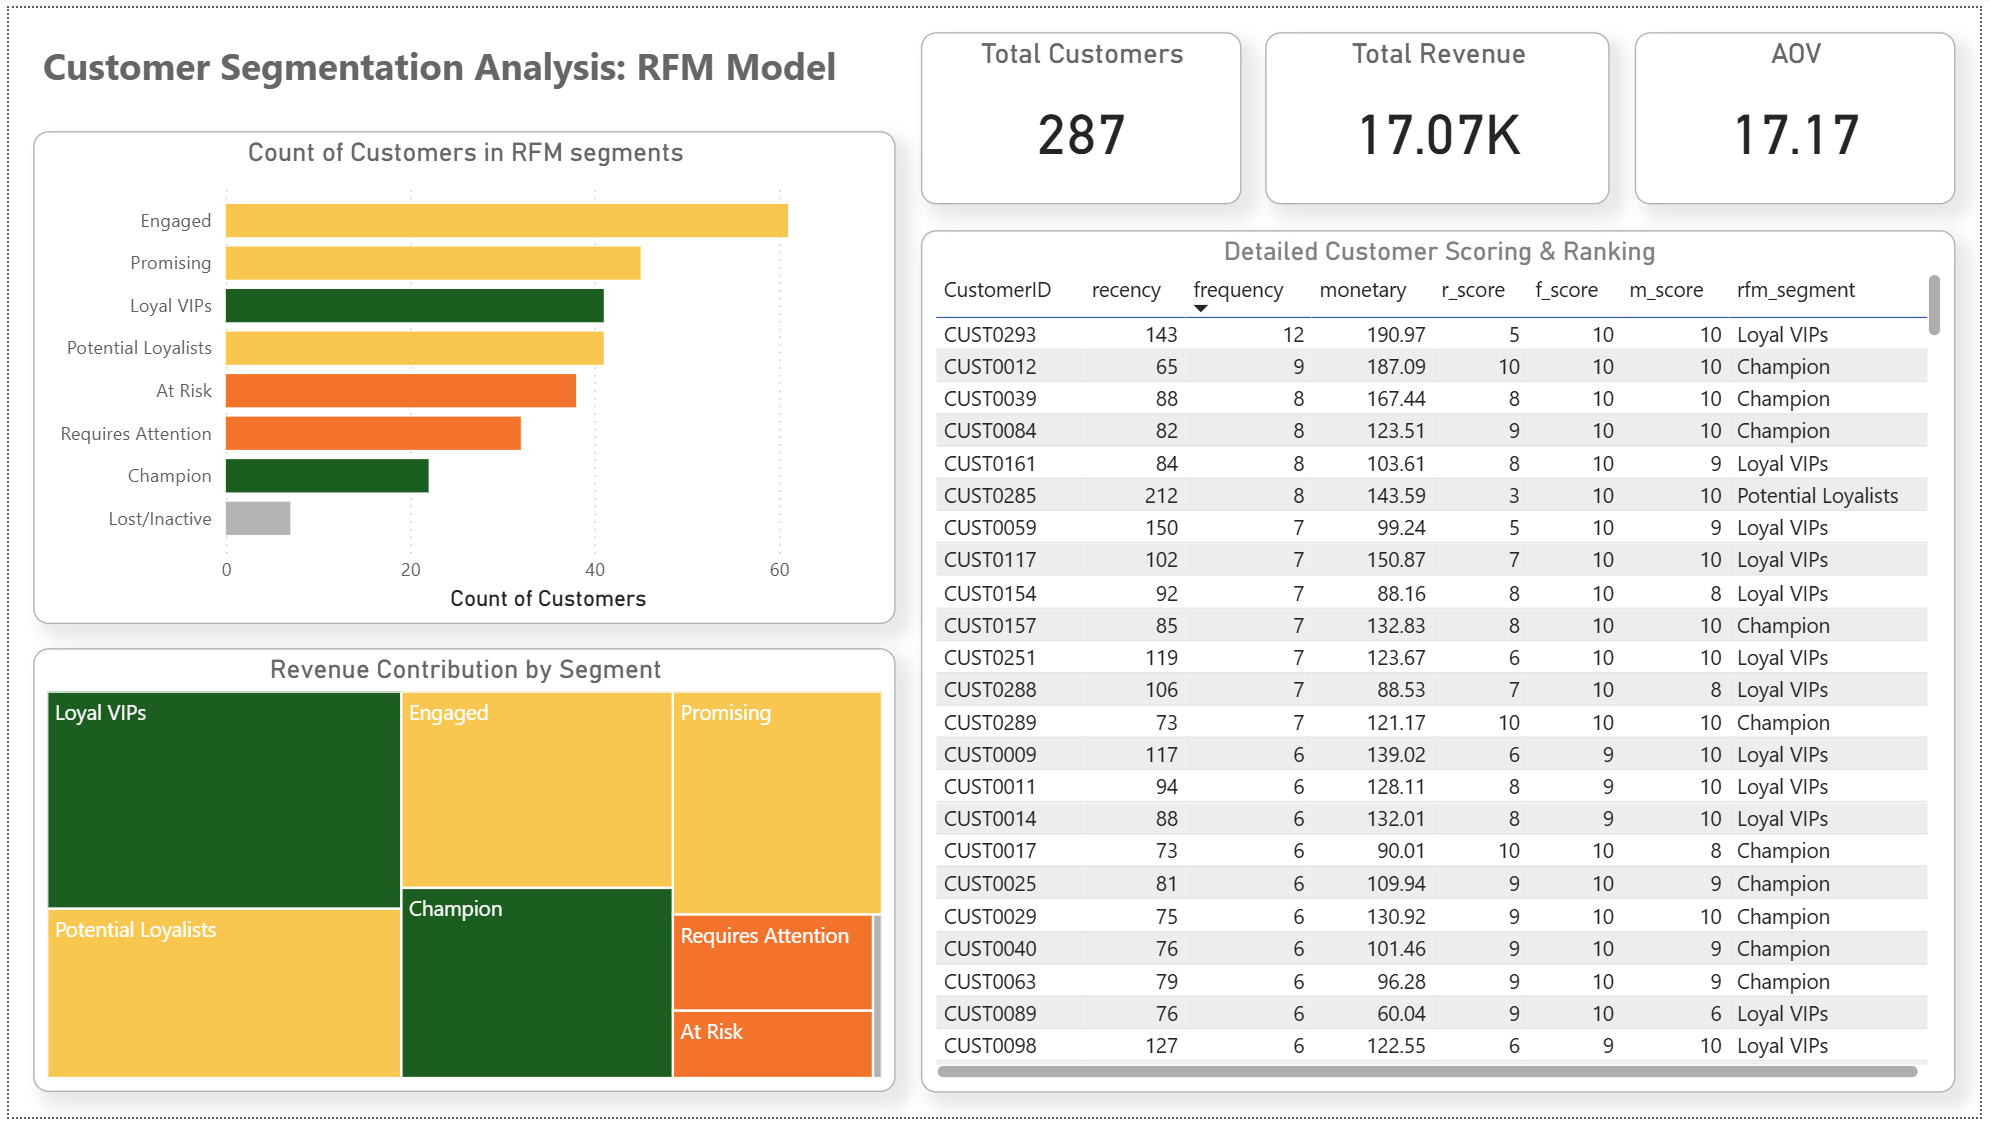

This screenshot's page, from the dashboard's own definition file:
{"tool":"powerbi","page":{"name":"DASHBOARD","canvas":[1280,720],"ordinal":0},"visuals":[{"type":"tableEx","title":"Detailed Customer Scoring & Ranking","fields":{"Values":["rfm_segments_table.CustomerID","rfm_segments_table.recency","rfm_segments_table.frequency","rfm_segments_table.monetary","rfm_segments_table.r_score","rfm_segments_table.f_score","rfm_segments_table.m_score","rfm_segments_table.rfm_segment"]},"box":[592,144,672,560],"z":1000},{"type":"textbox","box":[16,16,528,48],"z":2000},{"type":"treemap","title":"Revenue Contribution by Segment","fields":{"Group":["rfm_segments_table.rfm_segment"],"Values":["Sum(rfm_segments_table.monetary)"]},"box":[16,416,560,288],"z":3000},{"type":"card","title":"Total Customers","fields":{"Values":["rfm_segments_table.Total Customers"]},"box":[592,16,208,112],"z":4000},{"type":"card","title":"Total Revenue","fields":{"Values":["rfm_segments_table.Total Revenue"]},"box":[816,16,224,112],"z":5000},{"type":"card","title":"AOV","fields":{"Values":["rfm_segments_table.AOV"]},"box":[1056,16,208,112],"z":6000},{"type":"clusteredBarChart","title":"Count of Customers in RFM segments","fields":{"Category":["rfm_segments_table.rfm_segment"],"Y":["Count(rfm_segments_table.CustomerID)"]},"box":[16,80,560,320],"z":7000}]}

Visuals, with their boxes in screenshot pixels (x1, y1, x2, y2), scaled from the page's 1280x720 canvas onto the 1990x1127 screenshot:
"Detailed Customer Scoring & Ranking" tableEx: locate(920, 225, 1965, 1102)
textbox: locate(25, 25, 846, 100)
"Revenue Contribution by Segment" treemap: locate(25, 651, 896, 1102)
"Total Customers" card: locate(920, 25, 1244, 200)
"Total Revenue" card: locate(1269, 25, 1617, 200)
"AOV" card: locate(1642, 25, 1965, 200)
"Count of Customers in RFM segments" clusteredBarChart: locate(25, 125, 896, 626)
